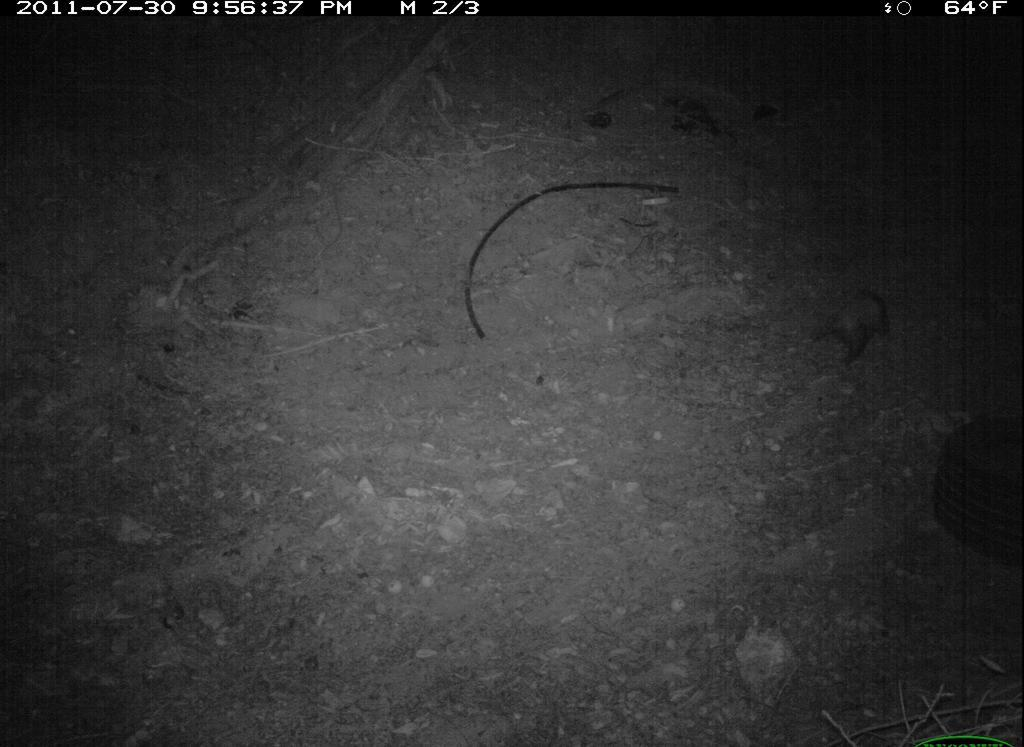opossum: (798, 274, 905, 388)
